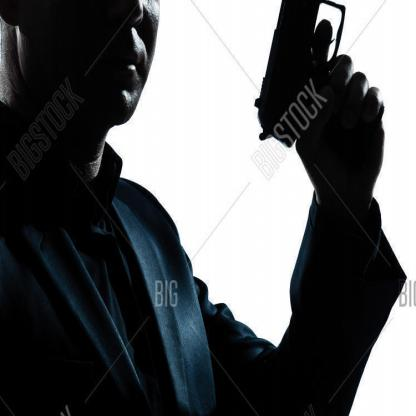gun: (244, 0, 390, 175)
